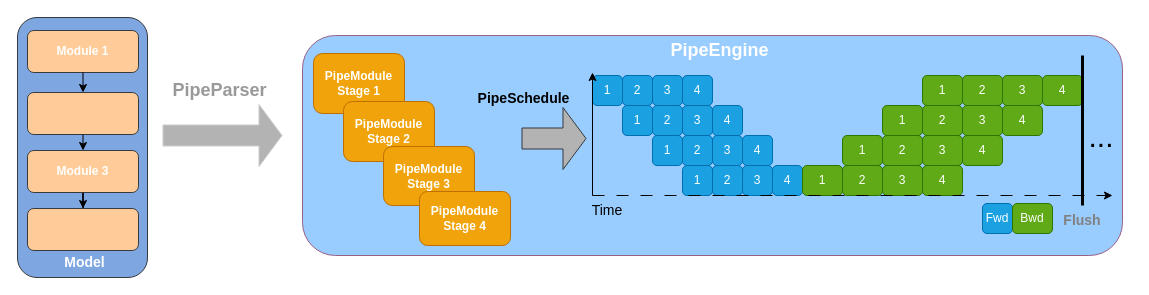
Image size: 1149x295. Some labels were removed from this diagram. Here are the shapes that lost their labels. From the top down, the centre of each, then its label:
At point (82, 113): "Module 2".
At point (82, 229): "Module 4".
